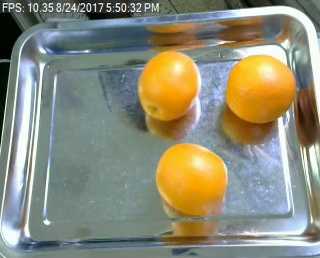Orange: (155, 143, 226, 214), (225, 54, 296, 123), (138, 50, 202, 119)
